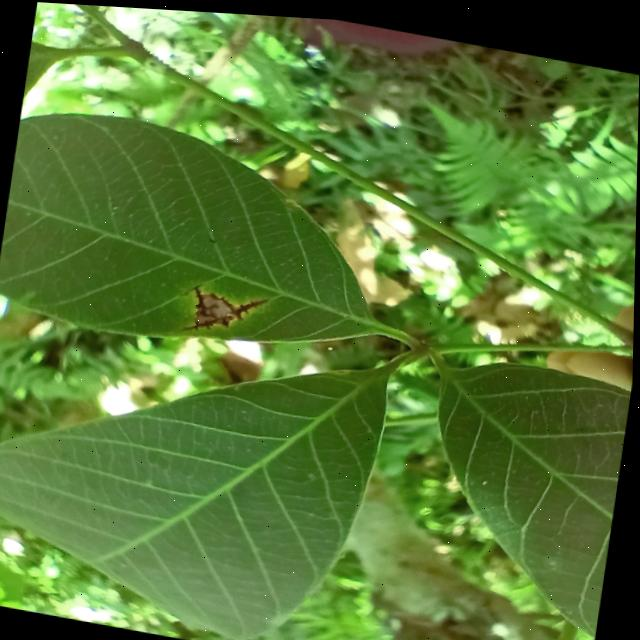Corynespora: (179, 279, 271, 341)
